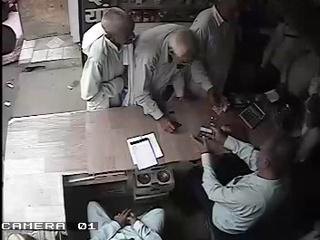Normal: (196, 122, 296, 240), (130, 23, 202, 132), (188, 0, 246, 101), (86, 201, 166, 240)
shoplifting: (80, 7, 136, 111)
